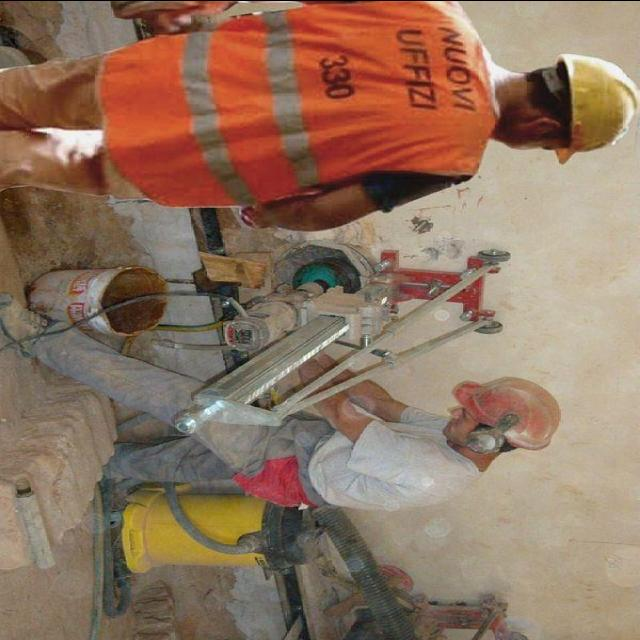helmet: (553, 38, 640, 166), (456, 364, 566, 458)
jacket: (99, 0, 494, 215)
